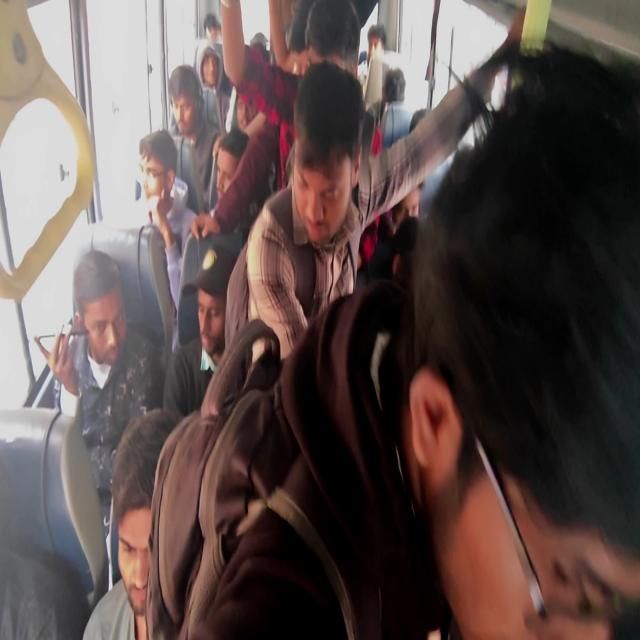person: (388, 42, 639, 638), (224, 56, 504, 364), (34, 248, 164, 588), (219, 0, 378, 189), (82, 406, 182, 638), (190, 91, 280, 240), (162, 243, 237, 416), (138, 128, 198, 314), (168, 63, 222, 213), (199, 45, 231, 129), (214, 126, 248, 204)
